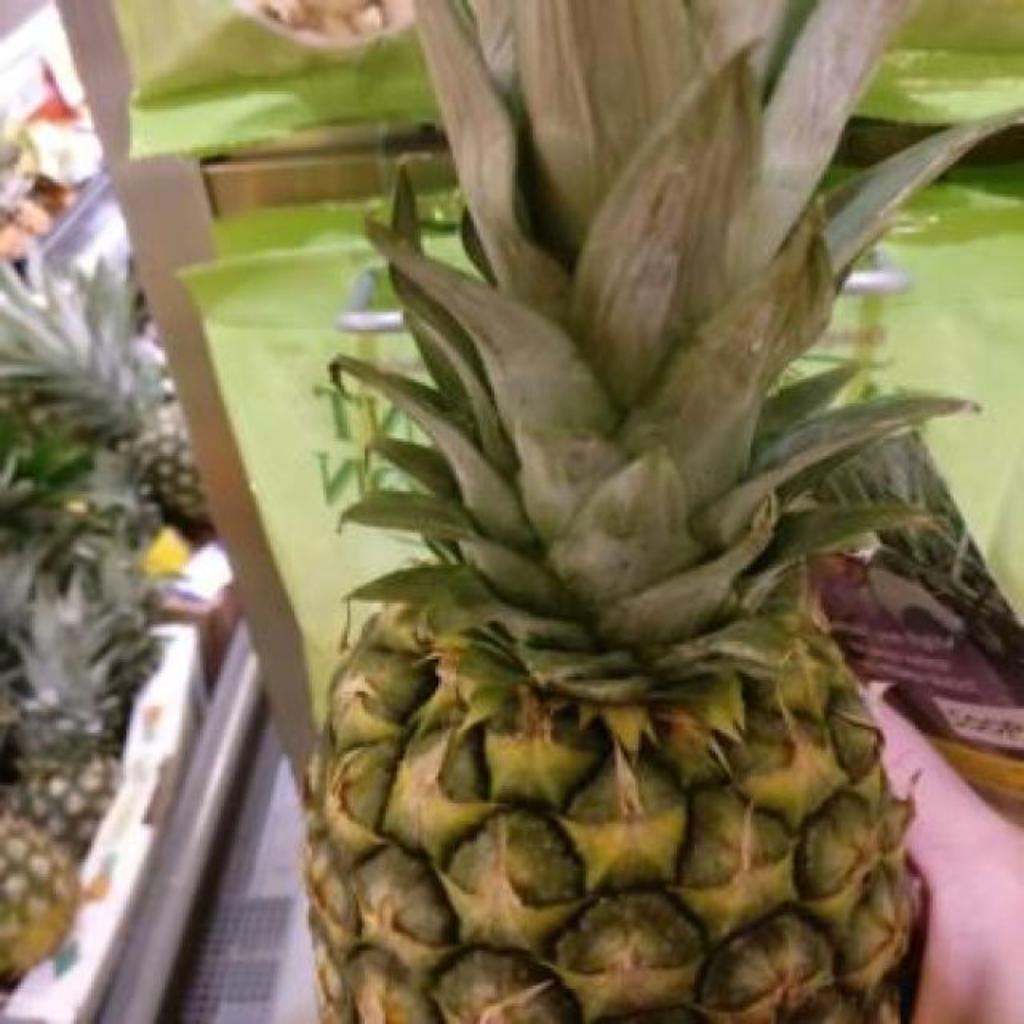pineapple: (312, 0, 1020, 1024), (0, 268, 214, 543), (4, 576, 154, 861)
